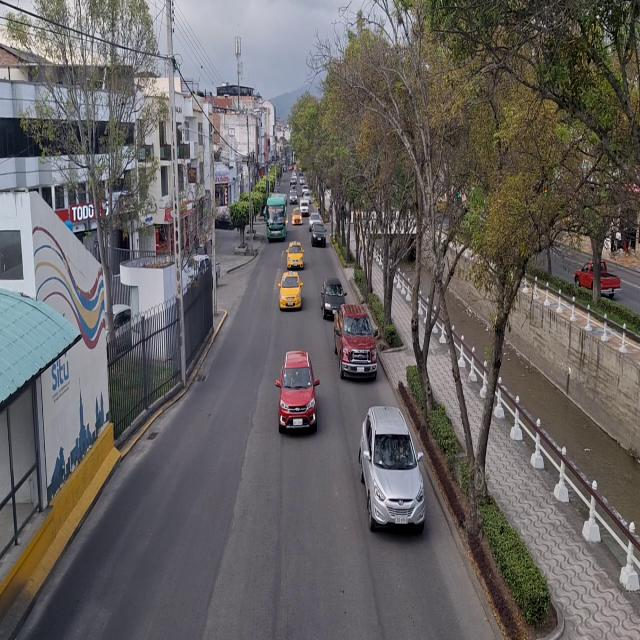BUS: (266, 198, 286, 242)
